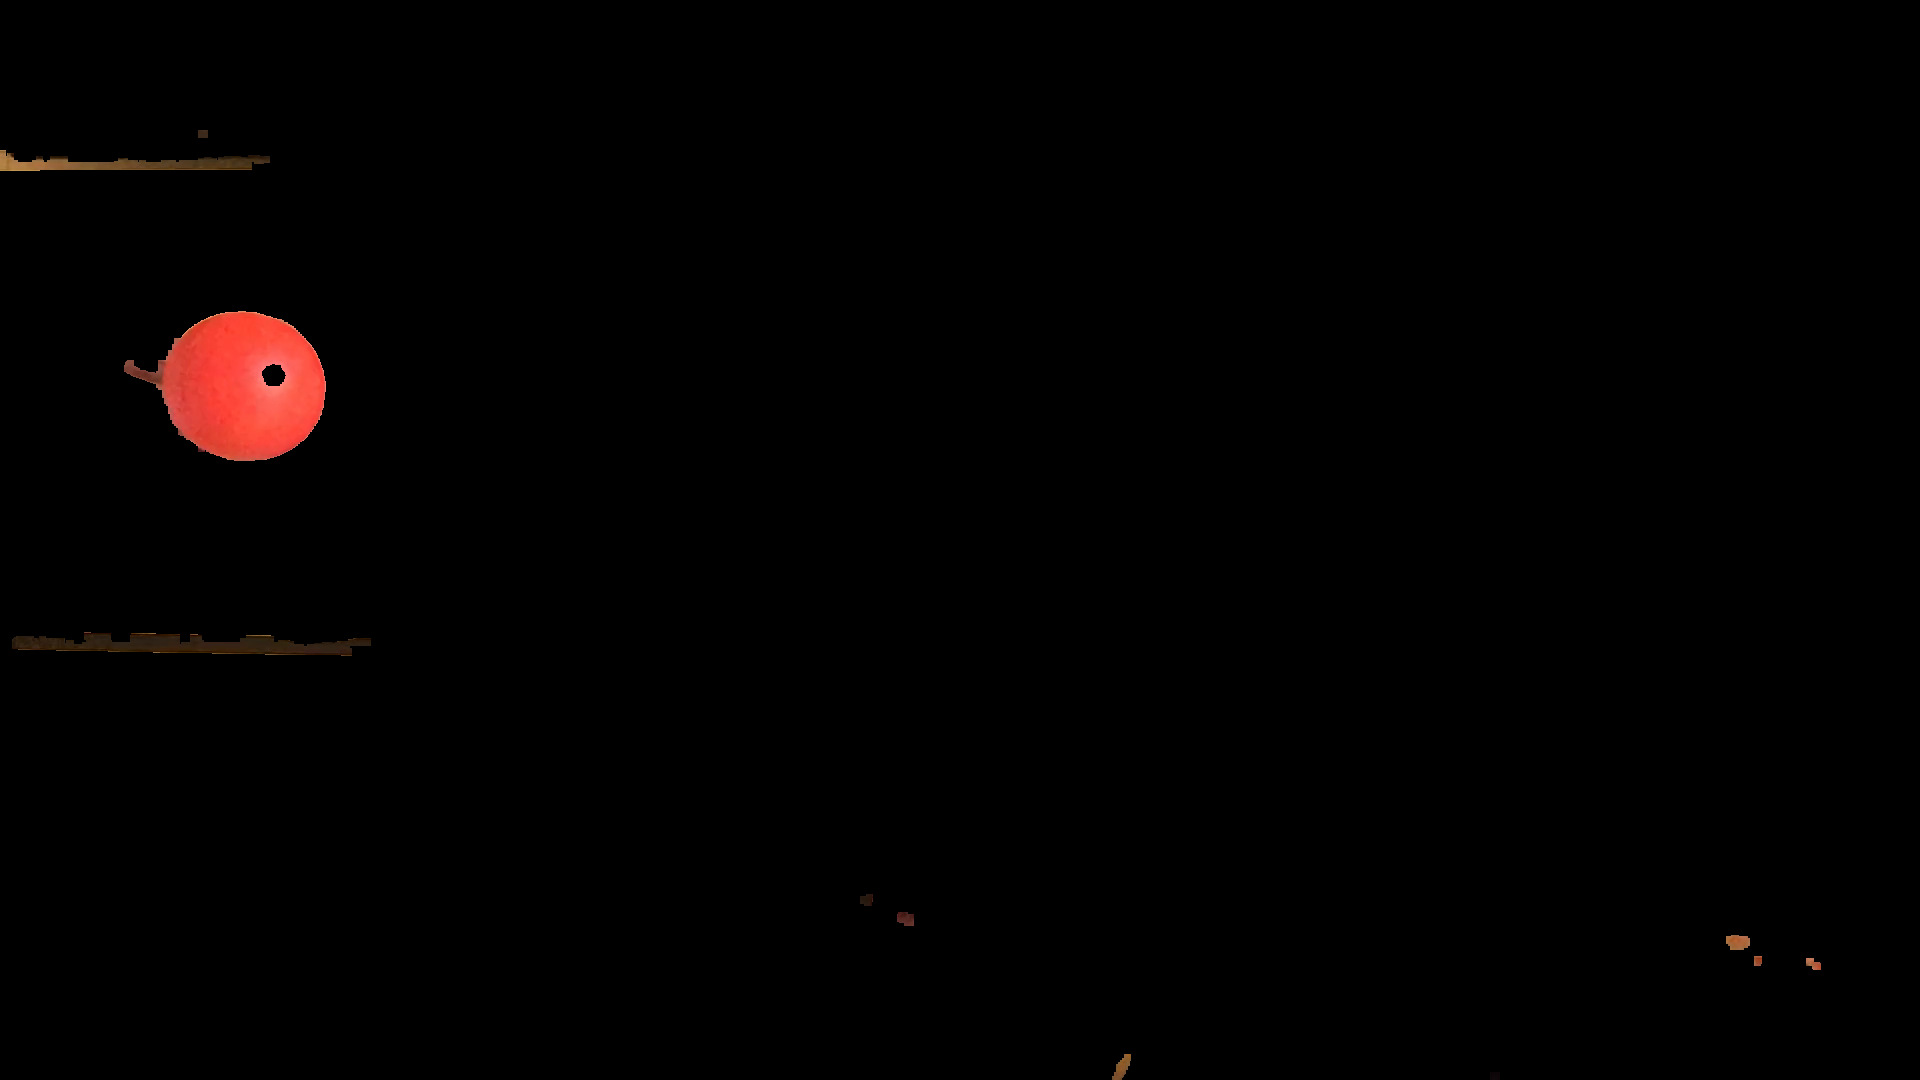Ball: (160, 311, 324, 459)
